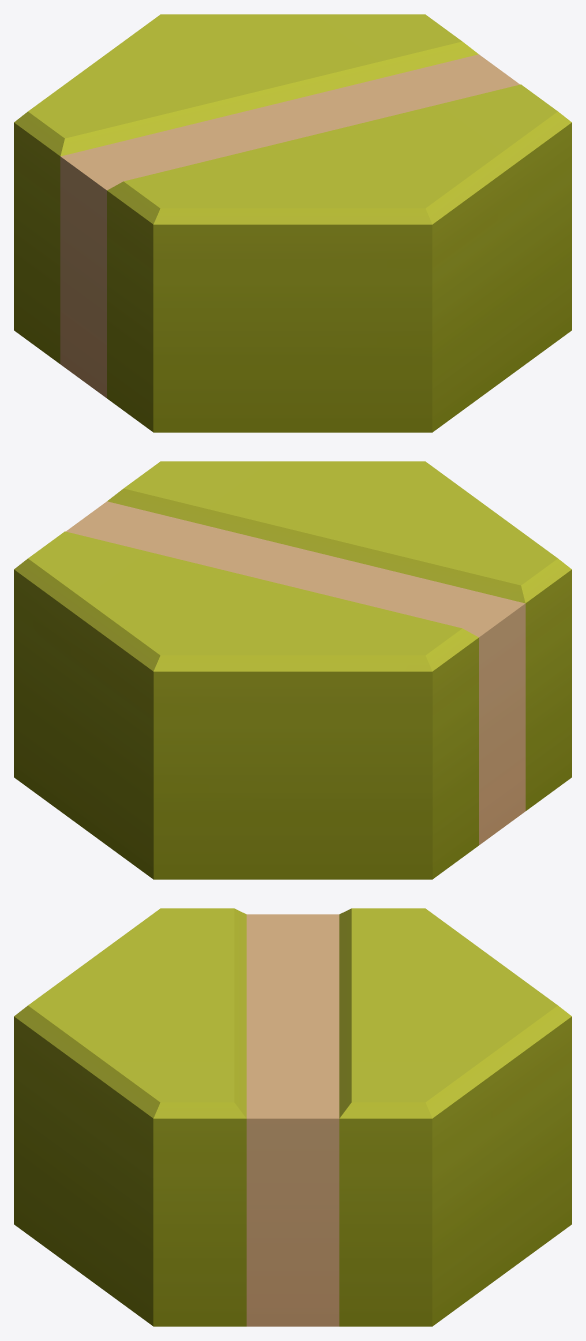
The model's file is hex_tile_road.glb.
The picture shows the model from 3 angles, top to bottom: view 1: azimuth 30°, elevation 25°; view 2: azimuth 150°, elevation 25°; view 3: azimuth 270°, elevation 25°; orthographic projection.
Parts seen in each view (by area): view 1: hex_road_A; view 2: hex_road_A; view 3: hex_road_A.
Boxes of the visible parts, x1=… form: hex_road_A: x1=14, y1=14, x2=571, y2=432; hex_road_A: x1=14, y1=461, x2=571, y2=879; hex_road_A: x1=14, y1=908, x2=571, y2=1326.
Bounding box in the file's own units: 2 × 1 × 2.31.
Materials: 1 (1 with a texture image).
